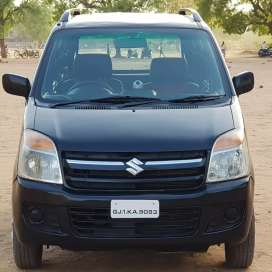license_plate: (112, 202, 158, 217)
